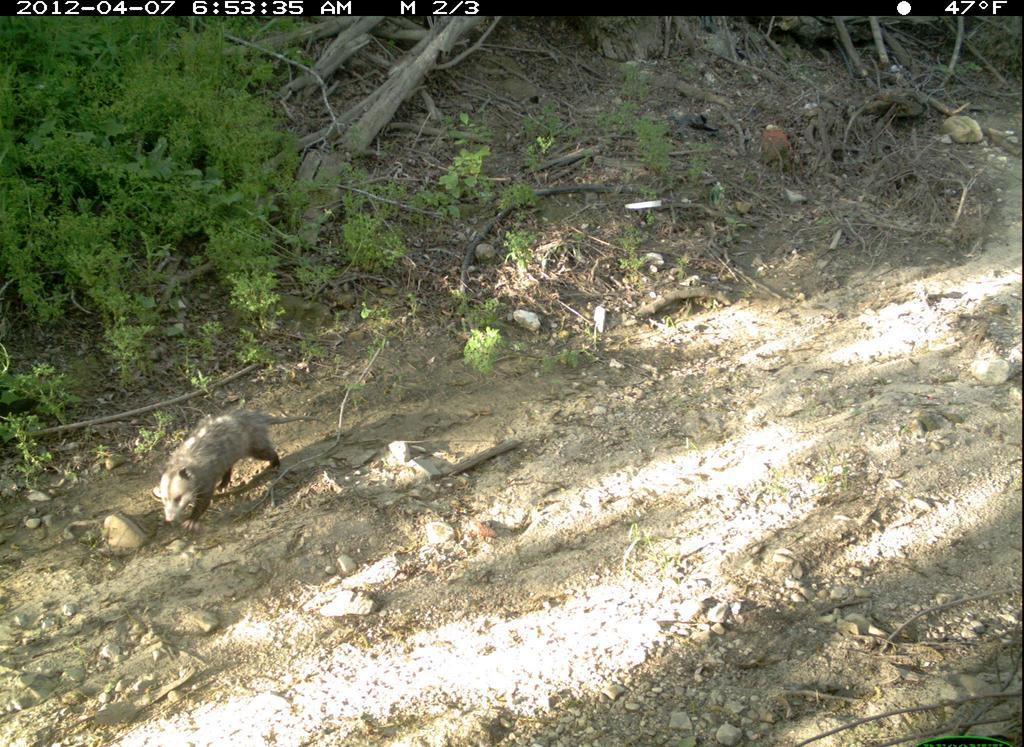opossum: (149, 402, 315, 533)
